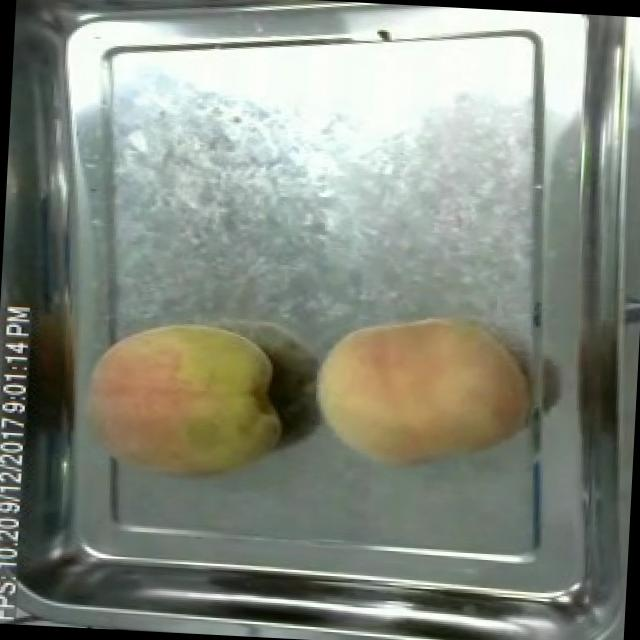Fruit: (70, 308, 296, 492), (307, 298, 534, 479)
